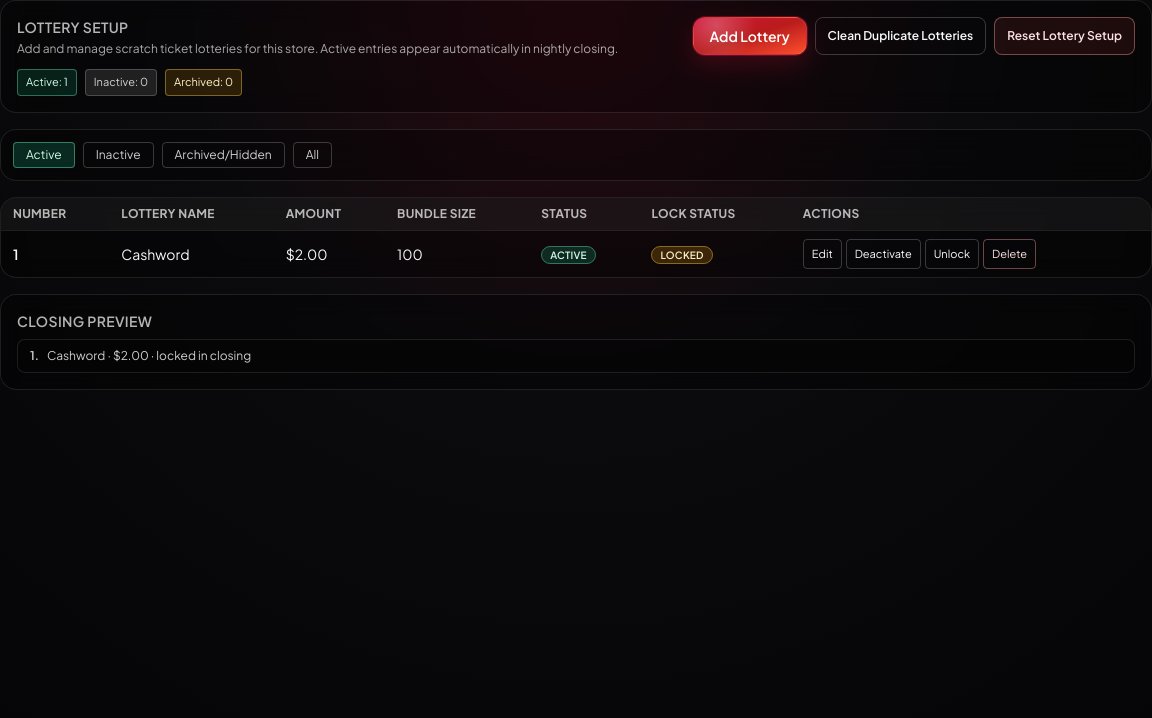
it: LotteryMasterManager › lets admin edit a locked lottery and updates the list immediately
Click the button "Edit".
click(822, 254)  # box [803,238,842,268]
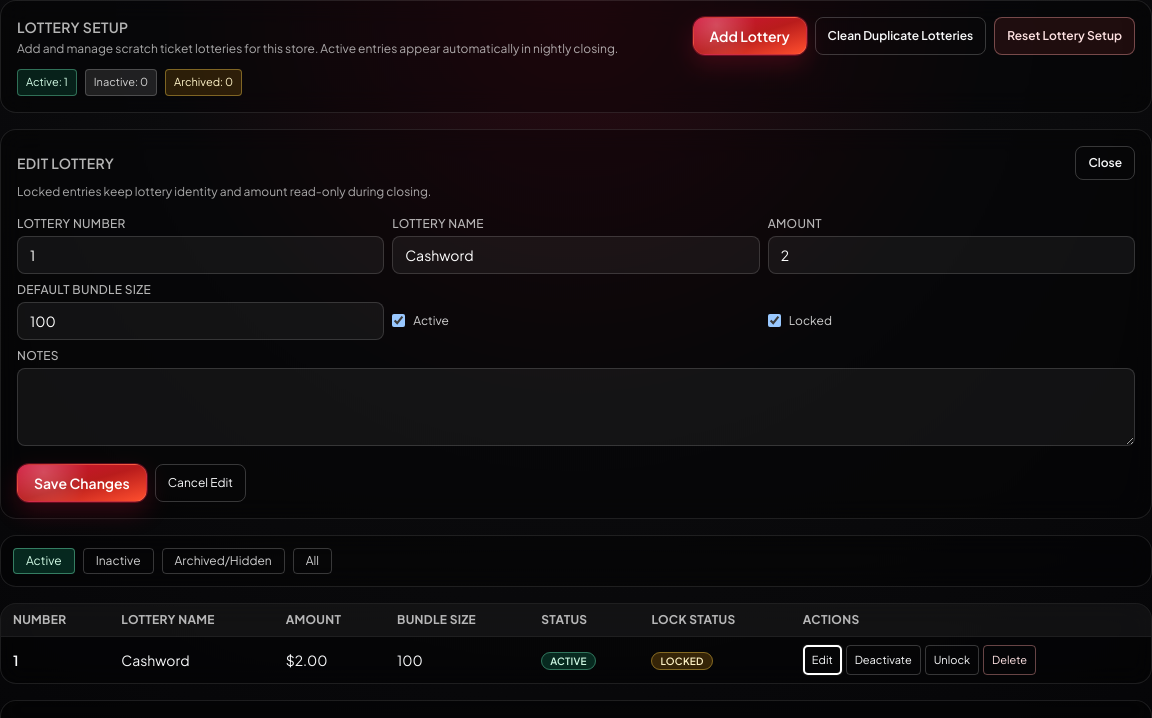
Clear the number field named "Lottery Number" at x=201, y=254, box [17,236,384,274]
Type "8" into the number field named "Lottery Number".
click(201, 254); type("8")  # box [17,236,384,274]
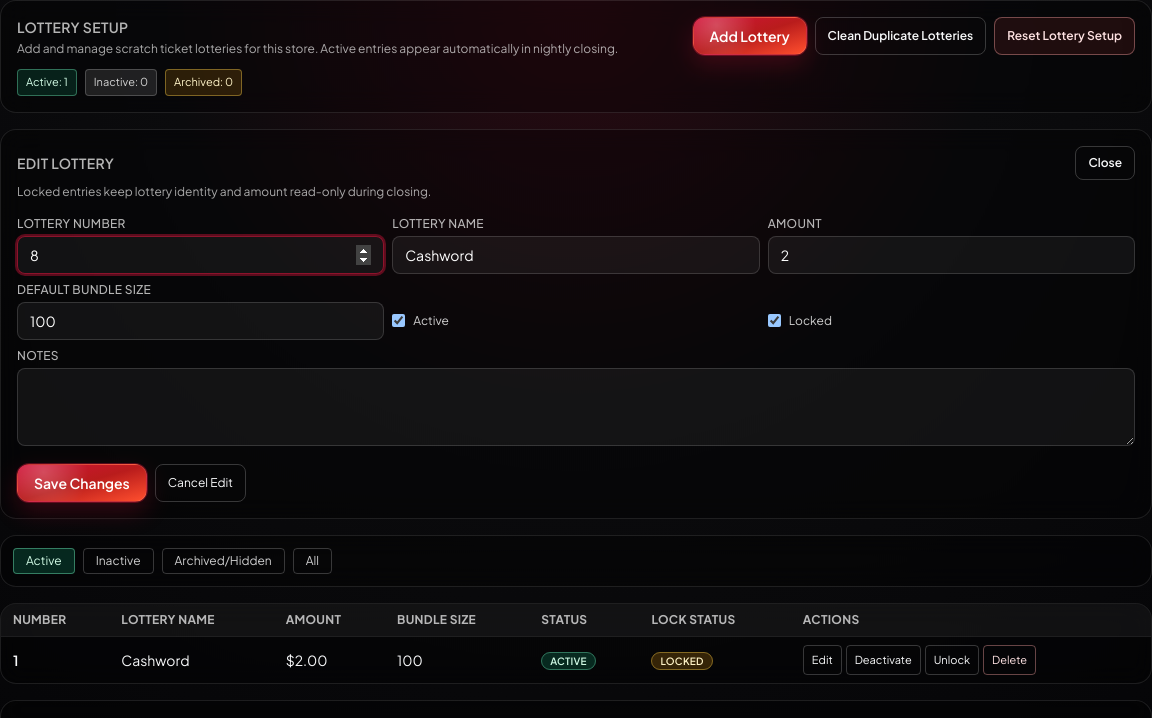
Replace the text in the field named "Lottery Name" with "Cashword Plus" at x=576, y=254, box [392,236,760,274]
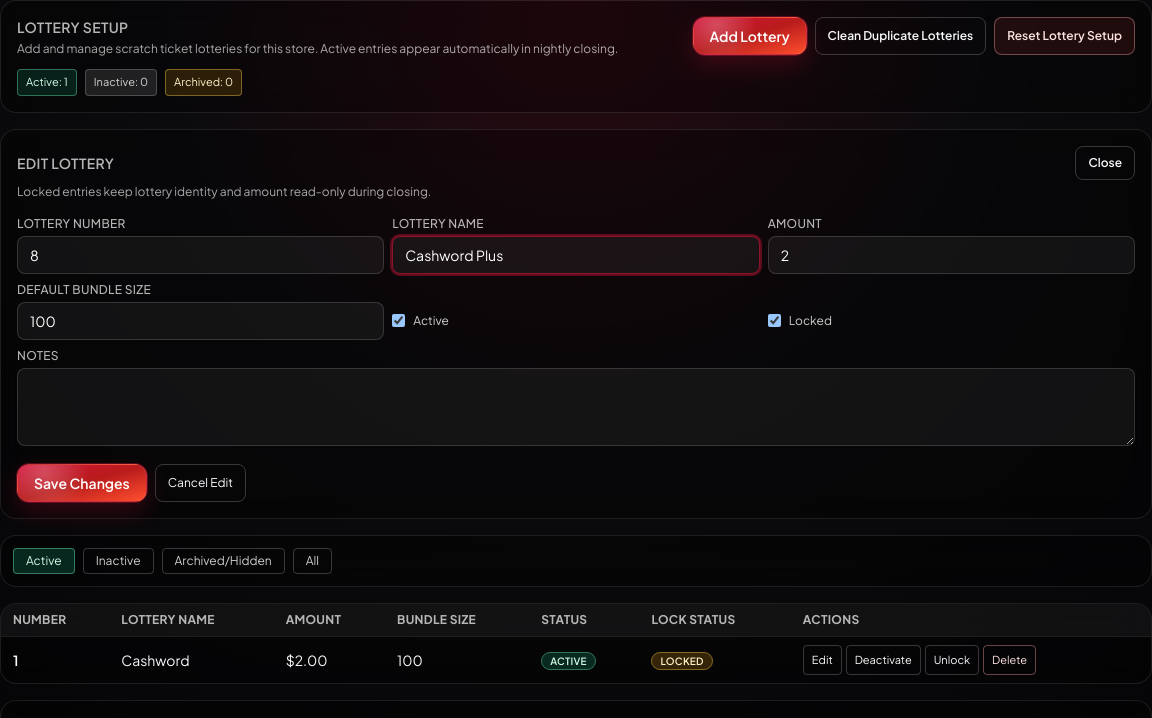
Clear the number field named "Lottery Amount" at x=951, y=254, box [768,236,1135,274]
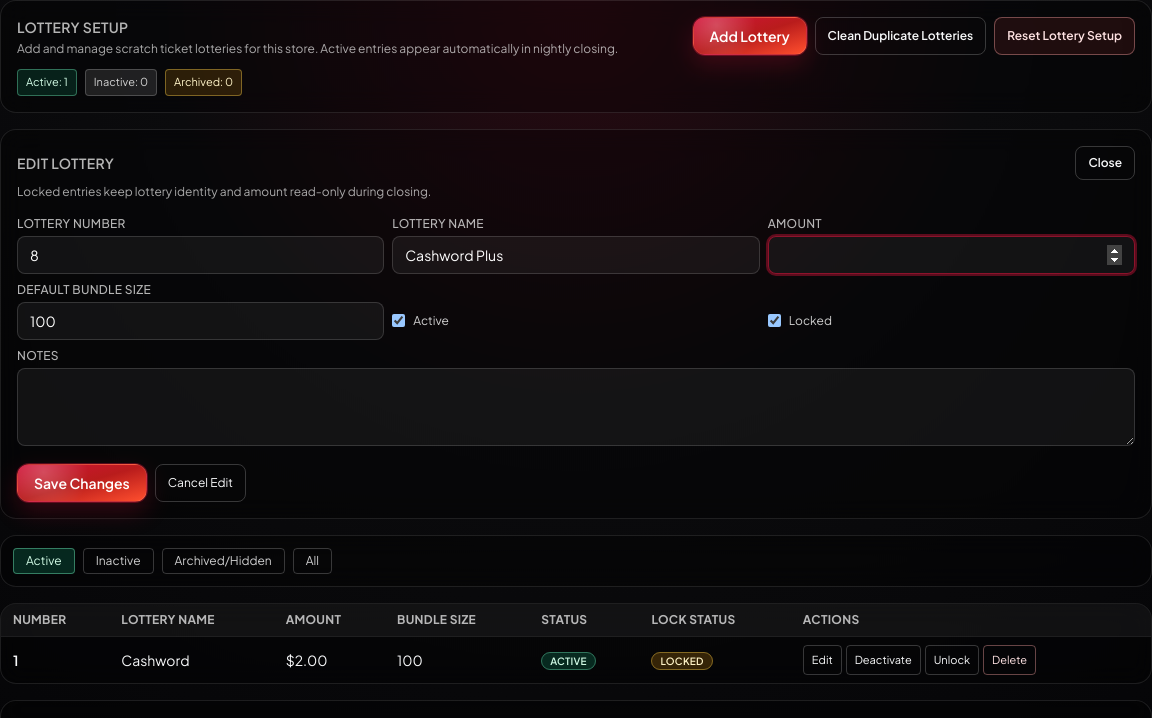
Type "7.5" into the number field named "Lottery Amount".
click(951, 254); type("7.5")  # box [768,236,1135,274]
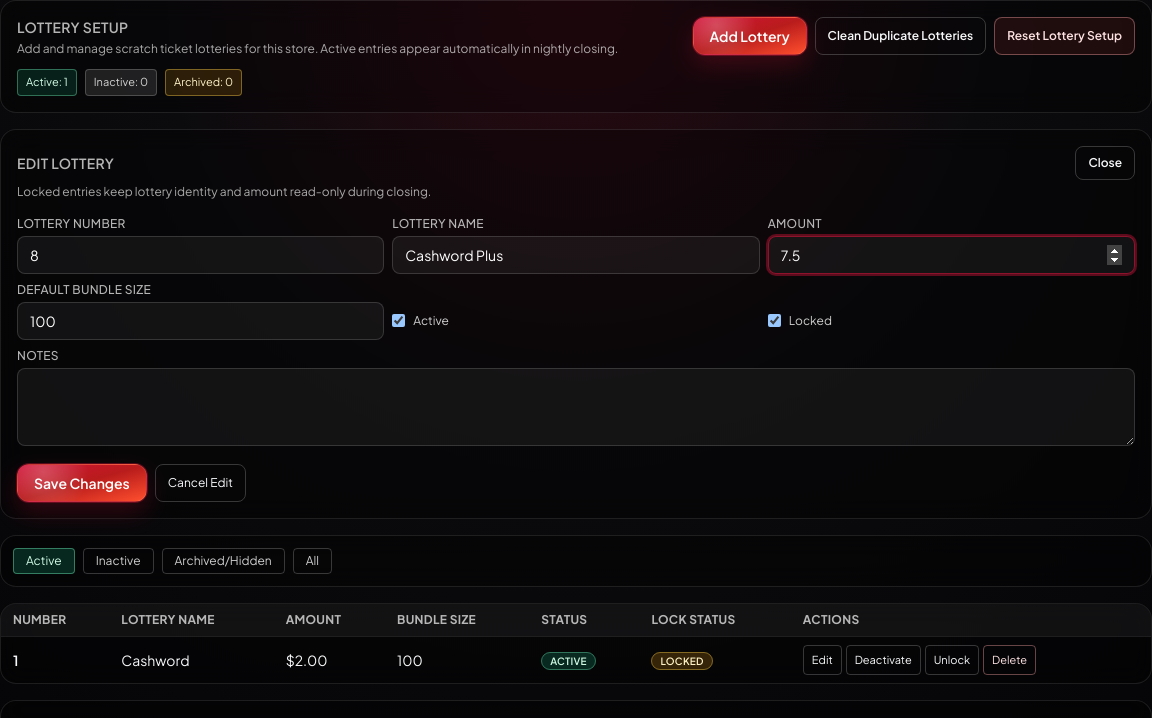
Click the button "Save Changes".
click(82, 482)  # box [17,464,147,502]
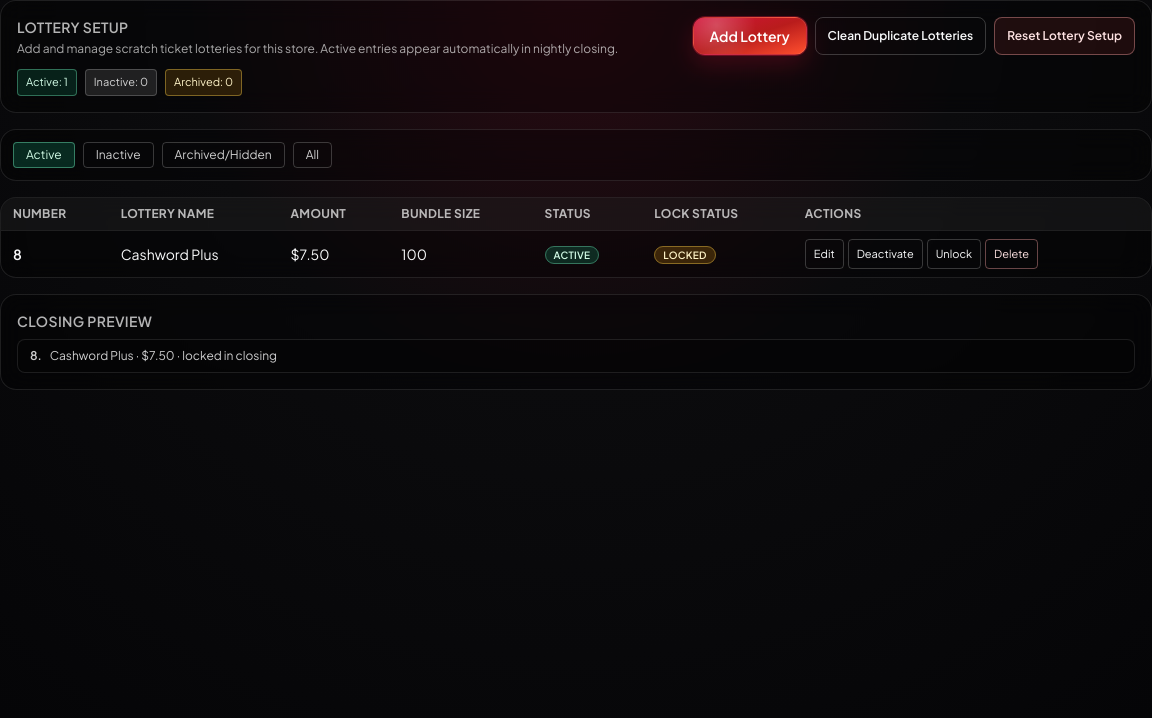
Now the cell "Cashword Plus" is shown, box [109,230,278,276]
Now the text "$7.50" is shown, box [278,230,389,276]
